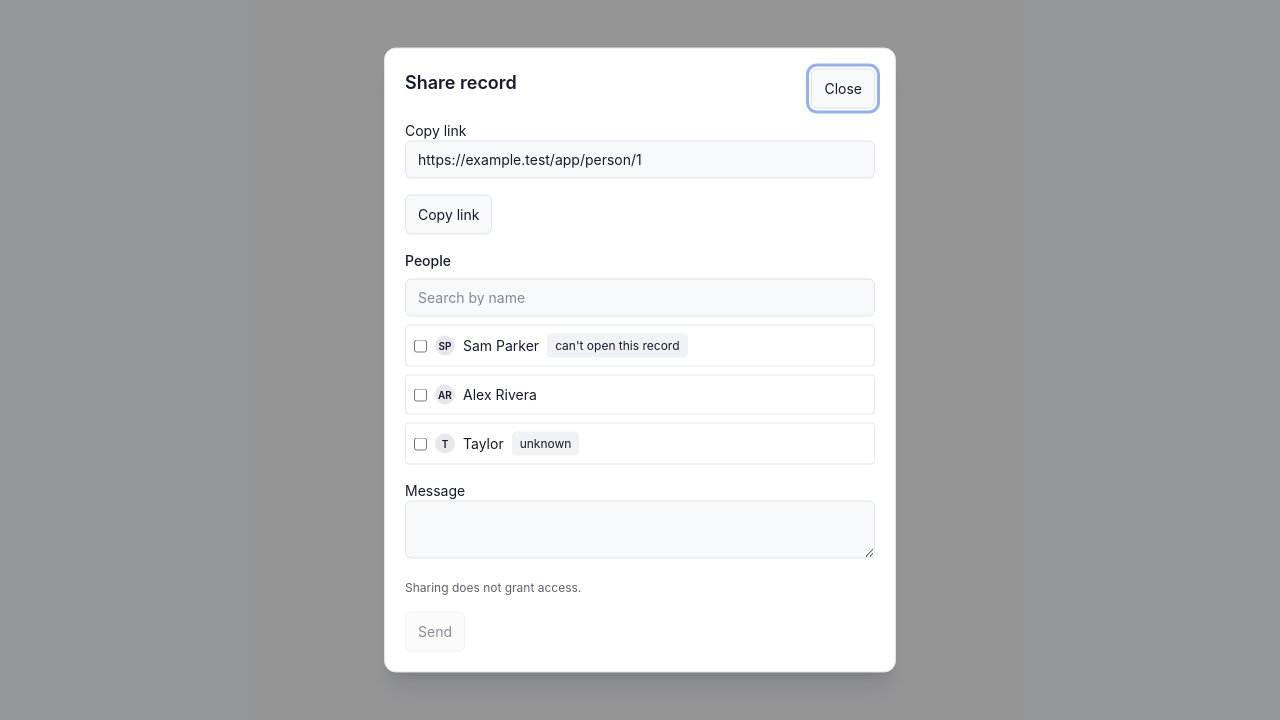
Test case: previews inaccessible and unknown recipients, then reports notified and offered access
The width and height of the screenshot is (1280, 720).
Check: the text "can't open this record" is shown, box [547, 334, 688, 358]
Check: the text "unknown" is shown, box [512, 432, 580, 456]
Click the checkbox labelled "SP Sam Parker can't open this record" at {"x": 420, "y": 346}, box [414, 339, 427, 352]
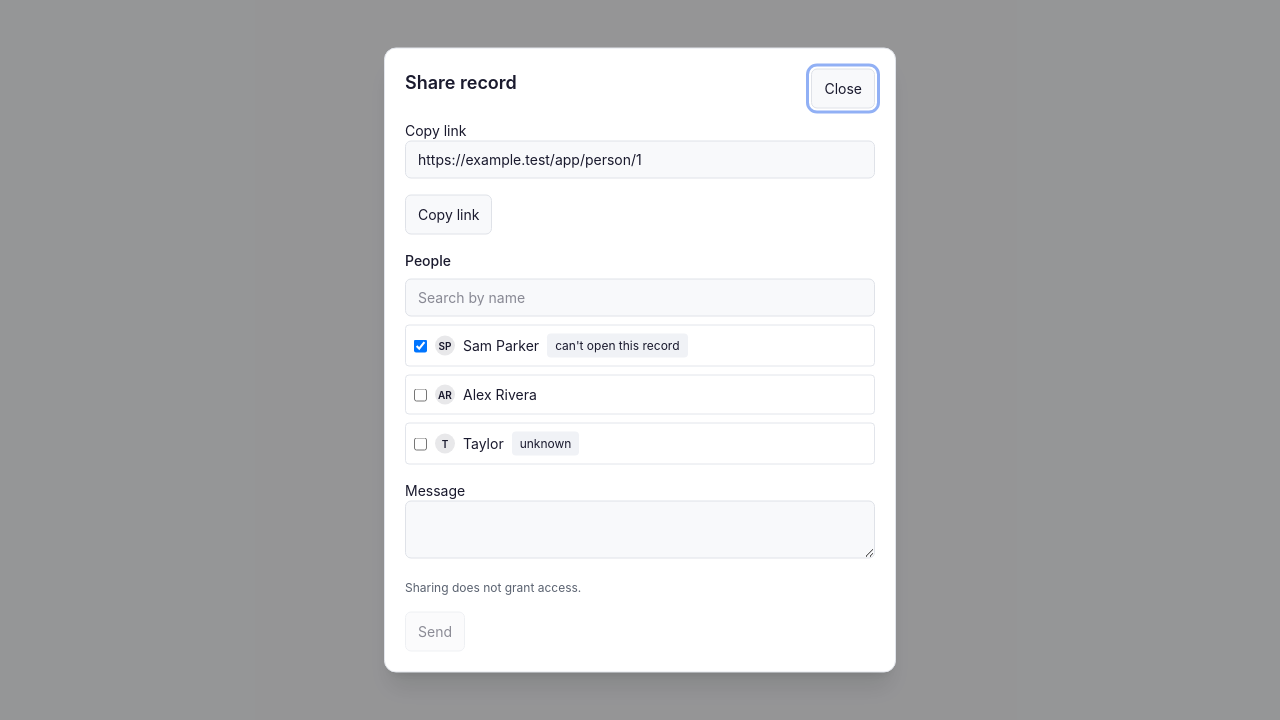
Click the checkbox labelled "AR Alex Rivera" at {"x": 420, "y": 394}, box [414, 388, 427, 401]
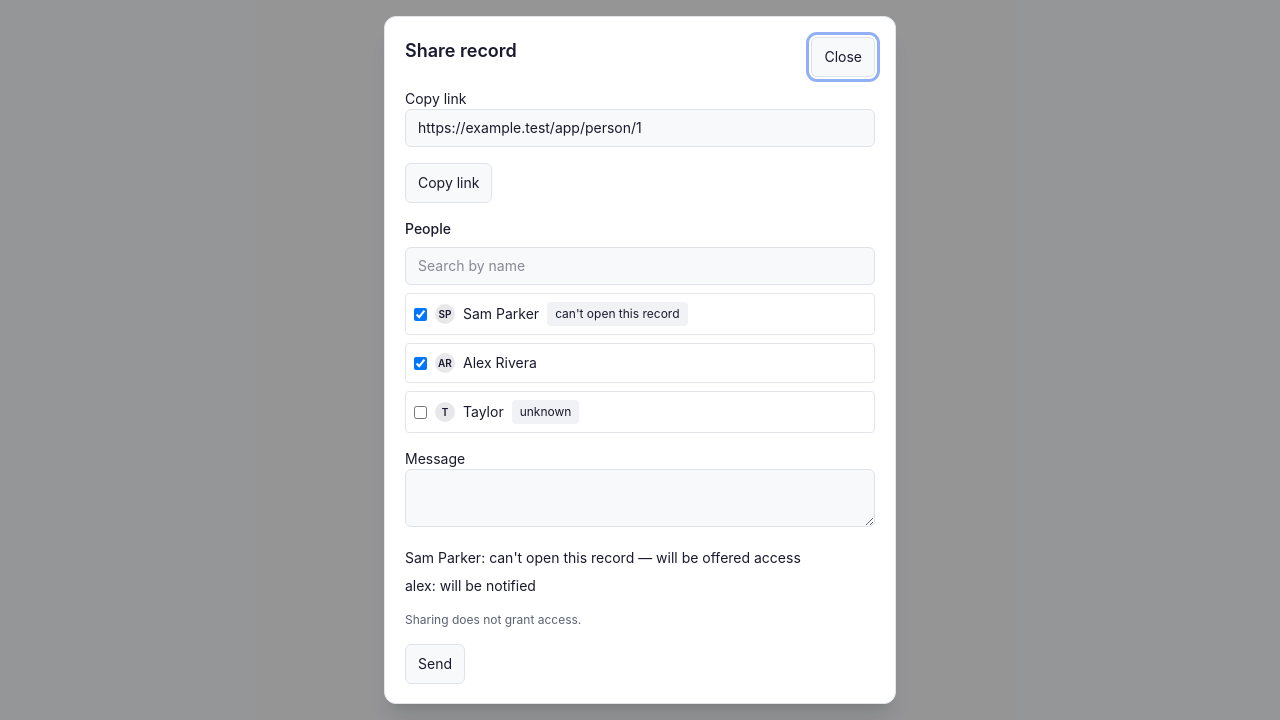
Check: the button "Send" is enabled
Click the button "Send" at {"x": 435, "y": 664}, box [405, 644, 465, 684]
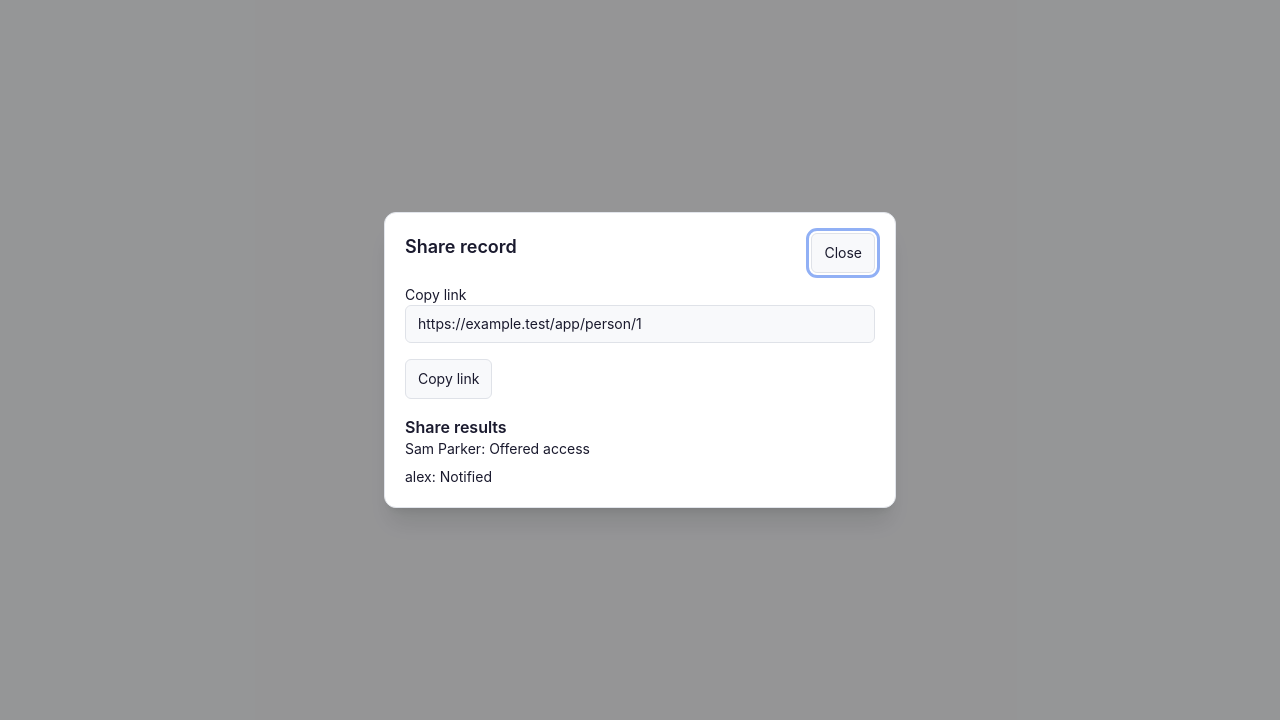
Check: the list item "Sam Parker: Offered access" is shown, box [405, 440, 590, 457]
Check: the list item "alex: Notified" is shown, box [405, 468, 492, 485]
